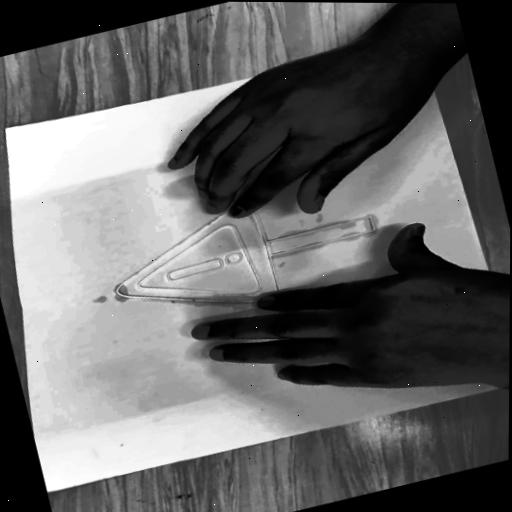bottom_left: (410, 29, 426, 42)
bottom_right: (504, 378, 509, 388)
signboard: (87, 167, 399, 346)
top_left: (0, 122, 17, 134)
